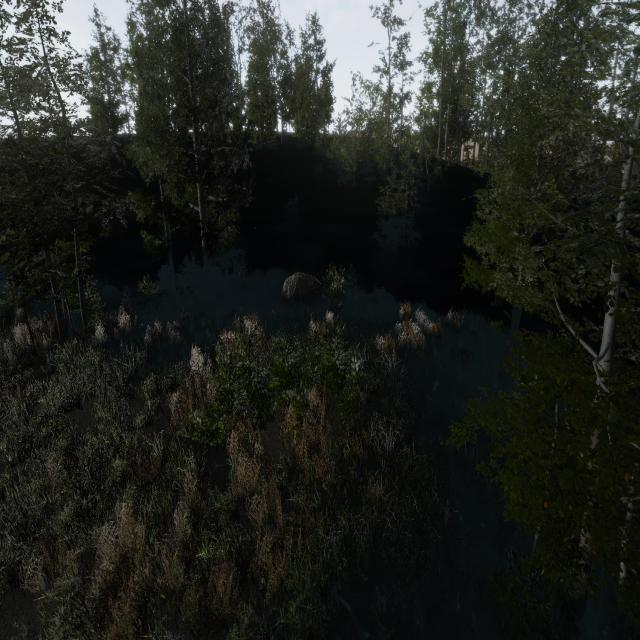Human: (304, 306, 319, 342)
